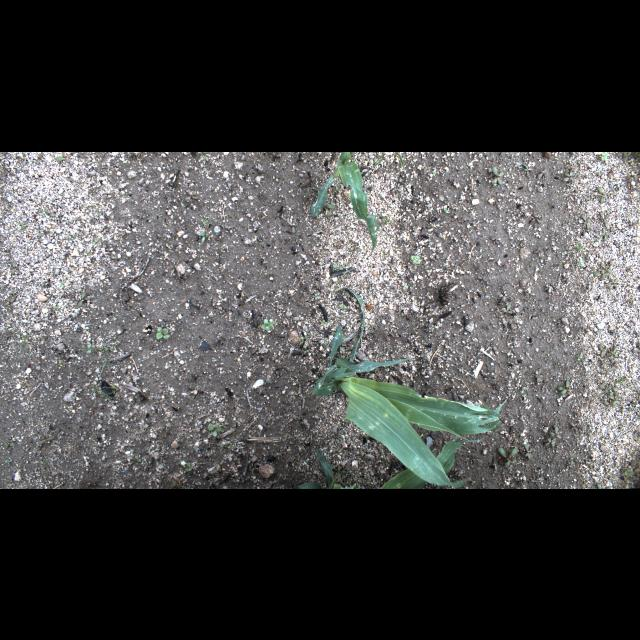crop: (312, 286, 506, 486), (298, 436, 486, 488), (312, 151, 378, 253)
weed: (371, 153, 405, 173), (496, 446, 520, 468), (492, 164, 504, 186), (76, 289, 90, 307), (155, 324, 169, 340), (324, 200, 336, 218), (592, 268, 610, 280), (556, 380, 570, 394), (260, 318, 274, 332), (38, 434, 56, 444), (206, 424, 224, 434), (54, 152, 72, 162), (562, 170, 576, 182), (550, 426, 562, 440), (94, 380, 110, 390), (598, 210, 608, 226), (526, 442, 534, 460), (10, 257, 18, 275), (598, 185, 606, 203), (600, 260, 612, 272), (582, 214, 592, 228), (186, 188, 200, 198), (608, 395, 622, 405), (622, 467, 634, 478), (501, 303, 514, 313), (522, 162, 532, 175), (534, 368, 542, 384), (508, 316, 518, 328), (544, 437, 556, 447), (609, 346, 619, 358), (599, 383, 611, 393), (602, 226, 610, 240), (582, 323, 596, 331), (601, 354, 609, 368), (600, 366, 614, 374), (604, 399, 616, 408), (185, 462, 195, 472), (410, 254, 420, 264), (531, 212, 541, 222), (608, 278, 618, 288), (348, 245, 362, 252), (3, 298, 15, 306), (200, 230, 208, 242), (536, 168, 548, 176), (489, 234, 499, 243), (570, 422, 578, 433), (37, 151, 43, 165), (333, 262, 343, 270), (534, 246, 542, 256), (628, 396, 638, 404), (616, 151, 628, 157), (600, 344, 606, 356), (600, 152, 608, 160), (610, 386, 618, 394), (586, 398, 594, 406), (4, 459, 14, 465), (86, 344, 92, 354), (338, 303, 348, 309), (476, 276, 486, 282), (609, 166, 615, 176), (134, 456, 142, 462), (4, 441, 10, 449), (520, 386, 526, 394), (577, 353, 583, 361), (632, 151, 640, 157), (41, 458, 48, 464), (470, 480, 476, 486), (322, 318, 328, 324), (54, 305, 60, 311), (430, 446, 436, 452), (90, 442, 94, 450), (314, 292, 318, 300), (570, 458, 574, 464), (303, 349, 309, 353), (60, 280, 64, 286), (597, 484, 601, 488)
